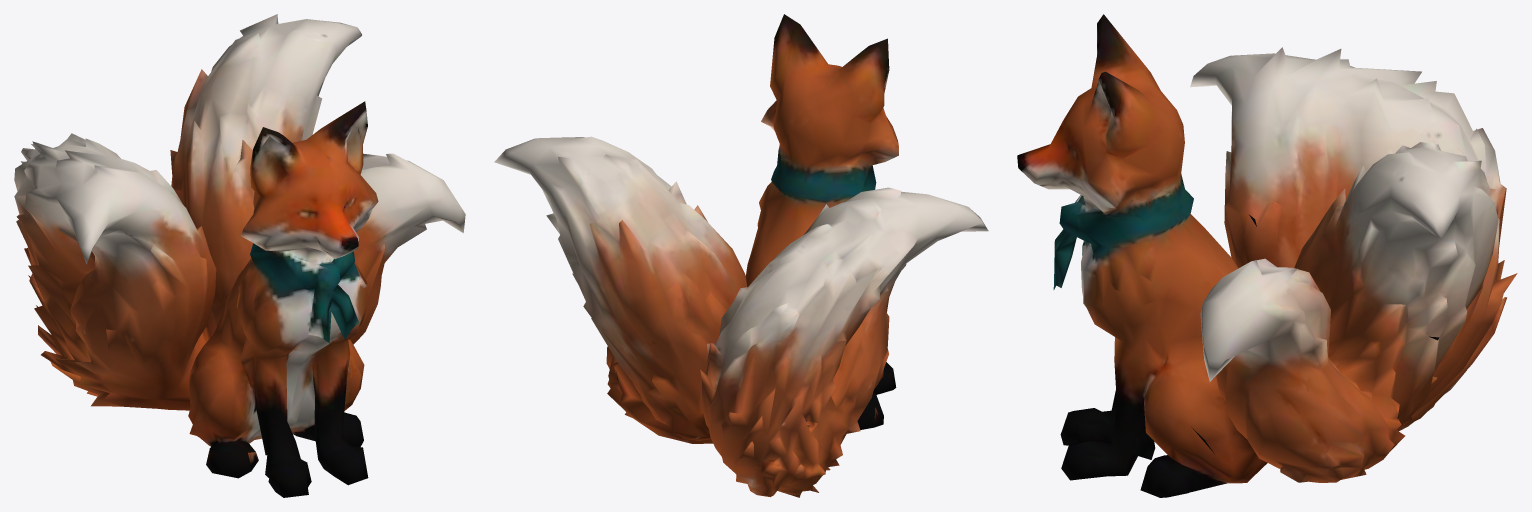
File: detail_3_lo2.glb
3 views of the same model, side by side, from view 1: azimuth 30°, elevation 25°; view 2: azimuth 150°, elevation 25°; view 3: azimuth 270°, elevation 25° (orthographic). The views are drawn at different scales.
Parts seen in each view (by area): view 1: Mesh_0.001; view 2: Mesh_0.001; view 3: Mesh_0.001.
Boxes of the visible parts, bbox=[...] form: Mesh_0.001: bbox=[14, 14, 465, 497]; Mesh_0.001: bbox=[494, 14, 988, 497]; Mesh_0.001: bbox=[1017, 14, 1517, 497].
Size of the model in its own units: 1.01 by 0.9041 by 0.9818.
1 material, 1 textured.
